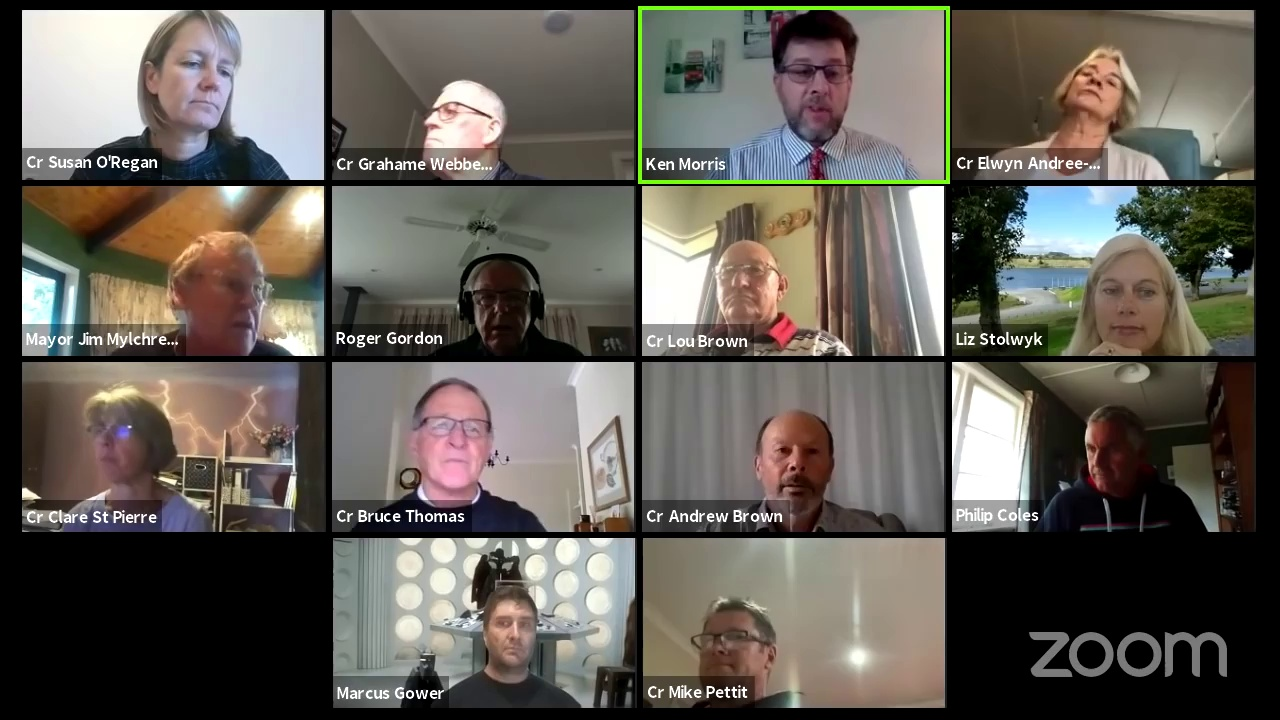Distracted: (139, 24, 236, 132), (176, 248, 267, 352), (85, 398, 169, 483), (413, 88, 493, 166), (1067, 46, 1133, 120), (1079, 412, 1145, 485)
Not Distracted: (774, 30, 863, 146), (401, 385, 499, 485), (1089, 260, 1175, 352), (456, 257, 544, 341), (695, 600, 776, 691), (761, 416, 831, 507), (713, 242, 783, 321), (488, 584, 540, 665)
